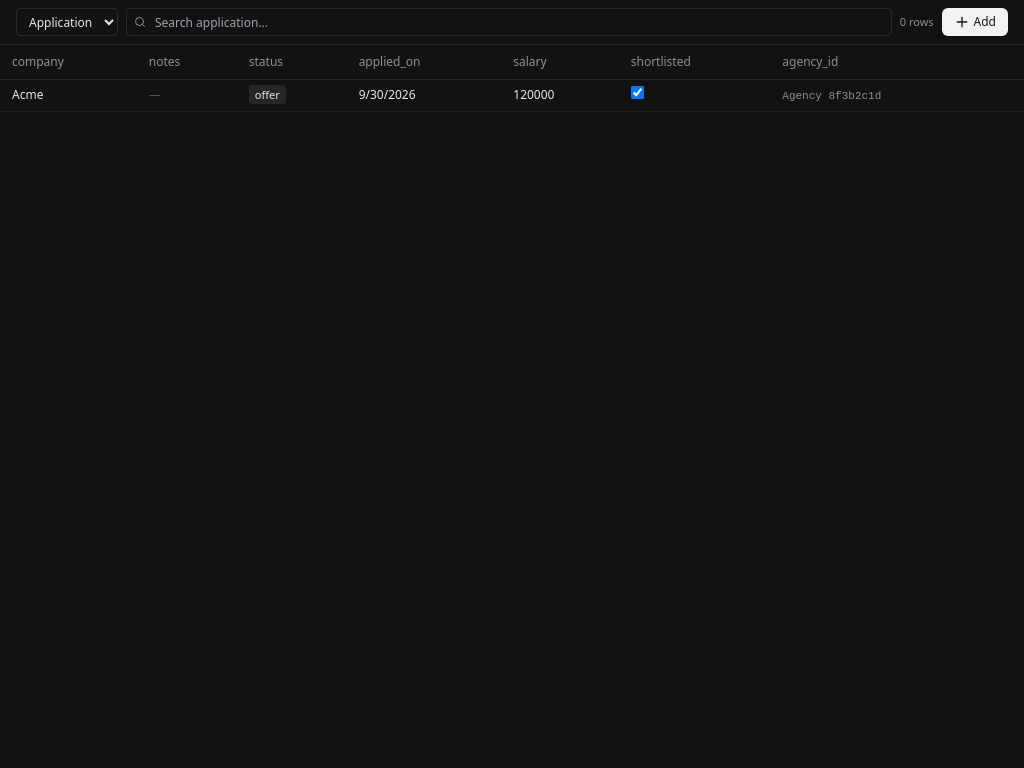
the edit drawer › builds an input per field type
Click the row "Acme — offer 9/30/2026 120000 Agency 8f3b2c1d". click: click(512, 95)
box: [0, 80, 1023, 111]
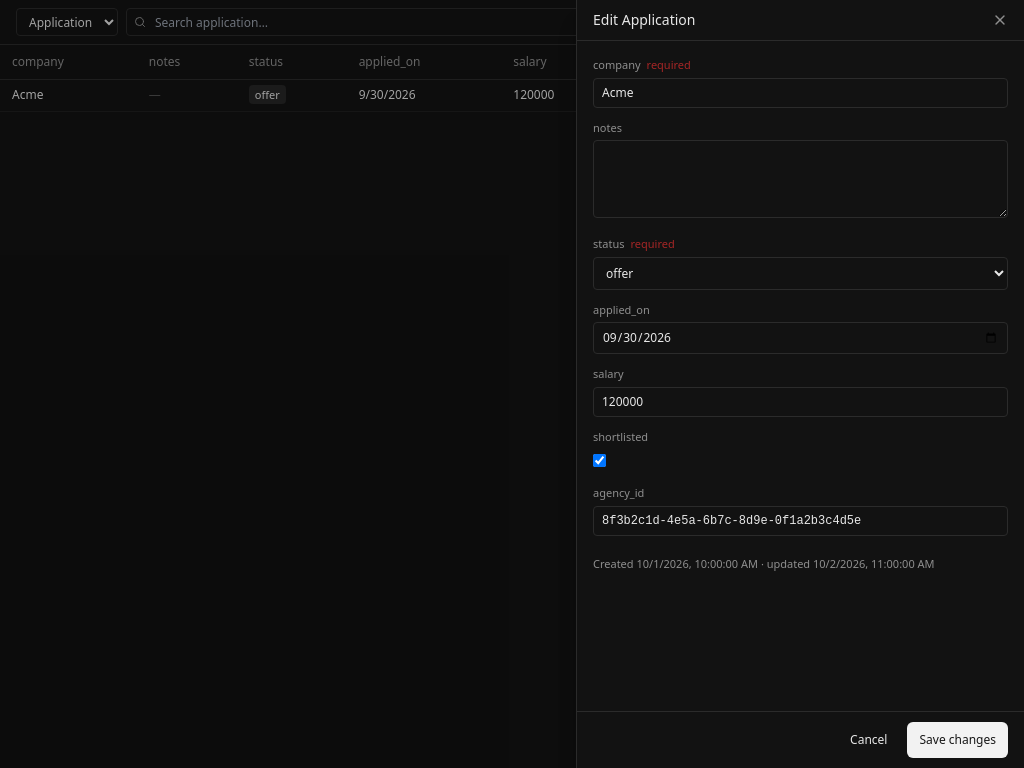
Check: the text "Edit Application" is shown, box [593, 10, 696, 30]
